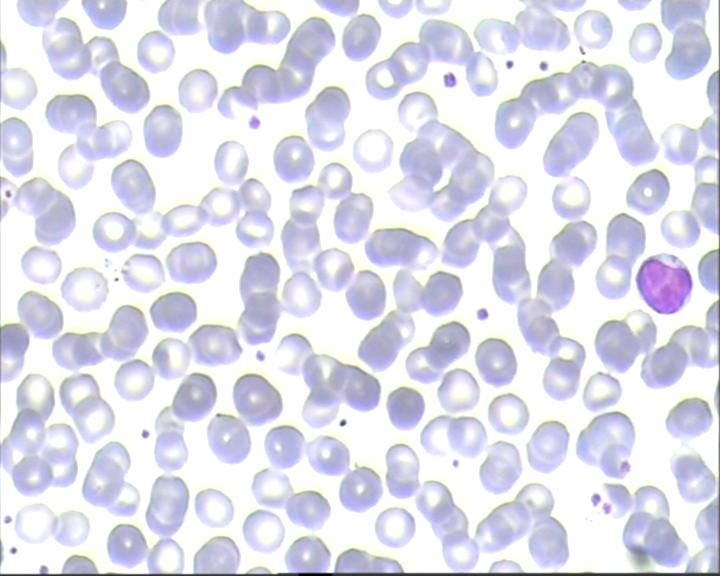lymp: (636, 248, 695, 316)
